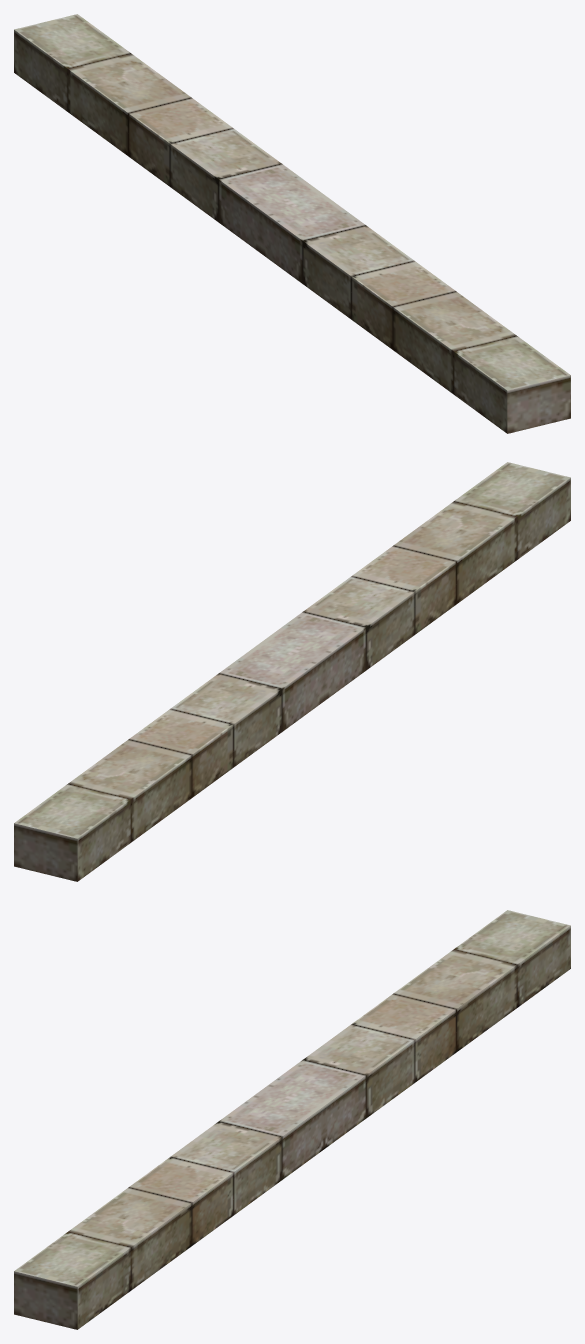
The model's file is nml-bd077.glb.
The picture shows the model from 3 angles, top to bottom: view 1: azimuth 30°, elevation 25°; view 2: azimuth 150°, elevation 25°; view 3: azimuth 330°, elevation 25°; orthographic projection.
Visible parts, largest first — view 1: geom_node_0; view 2: geom_node_0; view 3: geom_node_0.
Part boxes in pixels (<box>): geom_node_0: <box>14,14,570,433</box>; geom_node_0: <box>14,462,570,881</box>; geom_node_0: <box>14,910,570,1329</box>.
Size of the model in its own units: 0.4458 by 0.29 by 6.
Materials: 1 (1 with a texture image).
